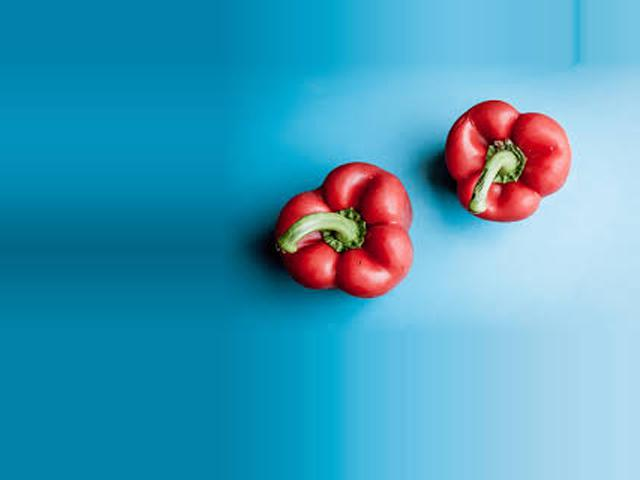bell_pepper: (258, 145, 439, 294)
